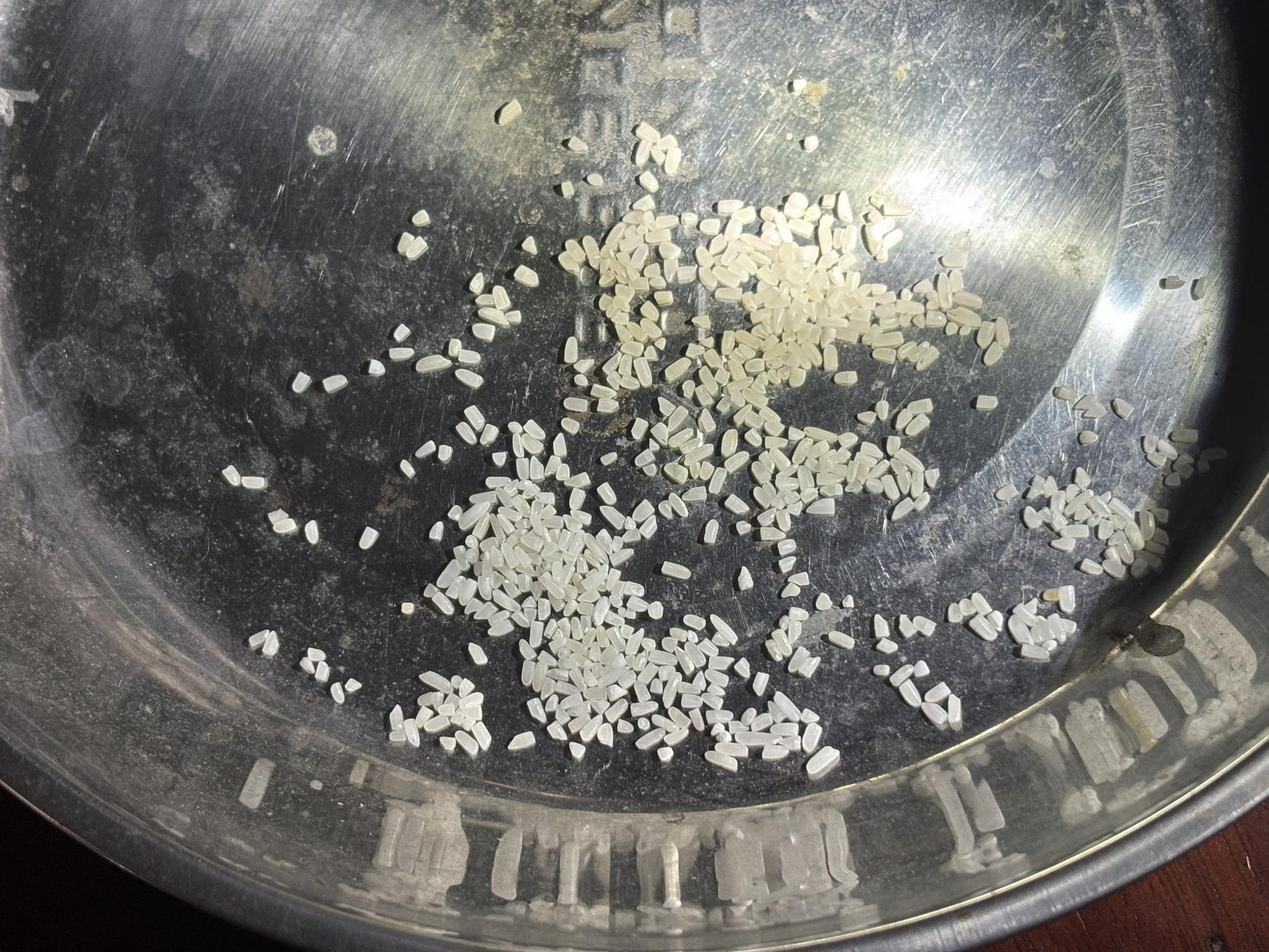Rice-th-y-nh: (457, 498, 492, 531), (804, 745, 840, 775), (709, 613, 739, 645), (582, 532, 610, 566), (419, 669, 453, 696), (774, 691, 802, 723), (477, 304, 511, 330), (1008, 614, 1035, 646), (894, 447, 926, 474), (833, 191, 858, 225), (968, 615, 998, 642), (435, 558, 461, 589), (635, 726, 666, 752), (1064, 488, 1095, 514), (598, 503, 626, 531), (704, 749, 738, 772), (491, 587, 521, 613), (579, 713, 604, 744), (973, 319, 998, 350), (513, 545, 537, 577), (740, 231, 773, 254), (664, 356, 692, 383), (454, 729, 480, 758), (539, 571, 565, 600), (1135, 509, 1158, 541), (581, 235, 602, 270), (712, 264, 741, 289), (604, 221, 628, 251), (790, 436, 814, 466), (697, 366, 720, 397), (772, 211, 794, 243), (723, 449, 750, 475), (787, 214, 815, 239), (920, 701, 949, 725), (787, 645, 811, 674), (463, 403, 487, 432), (471, 721, 494, 751), (838, 224, 861, 254), (1122, 520, 1145, 550), (529, 661, 551, 692), (992, 316, 1014, 347), (604, 698, 630, 724), (904, 412, 931, 437), (741, 387, 769, 411), (684, 641, 708, 669), (665, 405, 689, 433), (899, 679, 923, 707), (878, 473, 901, 502), (624, 626, 646, 656), (707, 466, 729, 496), (454, 368, 484, 390), (890, 496, 916, 521), (529, 519, 554, 545), (1108, 497, 1135, 521), (715, 740, 749, 759), (667, 491, 690, 519), (457, 578, 480, 606), (490, 284, 513, 312), (605, 625, 627, 654), (633, 138, 655, 167), (561, 335, 583, 364), (525, 619, 547, 648), (651, 713, 681, 734), (1047, 613, 1068, 643), (648, 647, 678, 668), (667, 705, 692, 730), (631, 498, 655, 524), (635, 121, 661, 145), (525, 697, 548, 724), (663, 461, 690, 484), (924, 681, 951, 704), (771, 628, 793, 656), (673, 647, 695, 675), (461, 704, 483, 732), (499, 542, 520, 571), (454, 421, 478, 446), (889, 663, 914, 687), (557, 251, 582, 275), (735, 251, 759, 276), (520, 432, 545, 456), (894, 297, 924, 317), (668, 426, 694, 449), (833, 323, 859, 346), (682, 483, 709, 505), (816, 313, 849, 331), (471, 512, 492, 540), (526, 455, 547, 483), (1020, 642, 1049, 662), (431, 591, 455, 615), (1013, 603, 1037, 627), (769, 446, 792, 471), (800, 341, 823, 366), (815, 249, 840, 272), (983, 341, 1005, 367), (696, 408, 718, 434), (609, 546, 635, 568), (1060, 521, 1090, 540), (629, 243, 650, 270), (758, 524, 786, 544), (417, 690, 445, 710), (640, 317, 663, 341), (970, 592, 993, 616), (798, 656, 822, 679), (523, 418, 546, 442), (912, 615, 937, 637), (564, 238, 586, 263), (708, 231, 730, 256), (511, 493, 532, 519), (678, 435, 704, 456), (871, 345, 897, 366), (639, 514, 660, 540), (727, 374, 755, 393), (405, 236, 428, 259), (626, 320, 649, 343), (1087, 496, 1111, 518), (750, 461, 772, 485), (445, 575, 467, 599), (867, 459, 891, 481), (620, 338, 645, 359), (473, 600, 498, 621), (520, 532, 545, 553), (568, 668, 589, 693), (752, 485, 773, 510), (859, 440, 884, 461), (602, 351, 623, 376), (704, 668, 729, 689), (770, 720, 799, 738), (403, 718, 421, 747), (1036, 616, 1056, 642), (894, 469, 914, 495), (663, 727, 689, 747), (751, 671, 771, 697), (631, 193, 657, 213), (596, 722, 616, 748), (609, 258, 629, 284), (590, 382, 617, 401), (475, 574, 494, 601), (487, 619, 514, 638), (908, 470, 927, 497), (637, 662, 659, 685), (1157, 438, 1179, 461), (467, 642, 489, 665), (568, 712, 591, 734), (694, 246, 716, 269), (632, 679, 653, 703), (1102, 558, 1126, 579), (750, 712, 774, 733), (479, 422, 500, 446), (626, 593, 650, 614), (764, 638, 784, 663), (872, 614, 892, 639), (1073, 392, 1098, 412), (630, 416, 650, 441), (603, 567, 622, 593), (497, 505, 523, 524), (424, 714, 450, 733), (718, 330, 737, 356), (764, 293, 791, 311), (737, 566, 755, 593), (702, 348, 724, 370), (655, 396, 677, 418), (701, 691, 724, 712), (639, 299, 660, 322), (546, 720, 569, 741), (613, 322, 634, 345), (650, 421, 671, 444), (756, 266, 779, 287), (693, 384, 714, 407), (756, 506, 779, 527), (787, 366, 808, 389), (494, 486, 515, 509), (757, 451, 778, 474), (655, 132, 678, 153), (517, 638, 537, 662), (898, 614, 918, 638), (771, 307, 788, 335), (819, 481, 844, 500), (995, 483, 1020, 502), (538, 676, 557, 701), (551, 433, 570, 458), (797, 320, 816, 345), (726, 359, 747, 381), (415, 439, 437, 460), (727, 262, 749, 283), (496, 513, 516, 536), (698, 267, 718, 290), (733, 403, 753, 426), (1073, 467, 1092, 491), (1083, 402, 1107, 421), (774, 508, 793, 532), (655, 212, 679, 231), (758, 405, 782, 424), (513, 457, 532, 481), (688, 707, 706, 732), (535, 597, 553, 622), (682, 613, 707, 631), (743, 426, 764, 447), (617, 669, 638, 690), (697, 638, 719, 658), (614, 283, 636, 303), (894, 408, 914, 430), (588, 697, 611, 716), (733, 657, 752, 680), (603, 609, 626, 628), (1052, 535, 1076, 553), (559, 692, 584, 709), (827, 267, 847, 288), (727, 387, 747, 408), (744, 411, 765, 431), (222, 465, 242, 486), (571, 507, 593, 526), (573, 357, 595, 376), (698, 460, 717, 482), (923, 467, 942, 489), (854, 451, 876, 470), (763, 419, 786, 437), (631, 650, 649, 673), (776, 462, 799, 480), (542, 513, 565, 531), (1080, 558, 1104, 575), (786, 498, 806, 518), (804, 203, 823, 224), (479, 535, 500, 554), (537, 650, 558, 669), (501, 580, 522, 599), (836, 252, 857, 271), (415, 706, 434, 727), (619, 374, 641, 392), (621, 527, 643, 545), (605, 369, 623, 391), (837, 431, 859, 449), (556, 528, 573, 551), (547, 666, 570, 683), (554, 703, 571, 726), (641, 210, 658, 233), (557, 616, 573, 640), (778, 555, 797, 575), (583, 549, 602, 569), (897, 340, 917, 359), (597, 269, 617, 288), (780, 581, 801, 599), (1146, 450, 1167, 468), (685, 342, 706, 360), (802, 300, 820, 321), (845, 271, 862, 293), (876, 637, 898, 654), (653, 289, 675, 306), (581, 626, 598, 648), (1078, 429, 1100, 446), (568, 741, 587, 760), (511, 609, 530, 628), (738, 342, 757, 361), (959, 598, 978, 617), (804, 456, 823, 475), (649, 145, 667, 165), (249, 629, 269, 647), (864, 477, 884, 495), (713, 367, 731, 387), (657, 664, 677, 682), (669, 625, 689, 643), (554, 463, 572, 483), (490, 450, 510, 468), (522, 482, 542, 500), (691, 670, 708, 691), (574, 553, 590, 575), (691, 314, 713, 330), (787, 606, 809, 622), (878, 315, 900, 331), (856, 410, 878, 426), (788, 571, 810, 587), (399, 459, 416, 479), (707, 682, 727, 699), (786, 425, 806, 442), (562, 599, 579, 619), (535, 490, 556, 506), (745, 357, 766, 373), (330, 682, 345, 704), (819, 192, 837, 210), (1073, 505, 1092, 522), (643, 344, 660, 363), (436, 702, 456, 718), (560, 180, 576, 200), (681, 379, 697, 399), (727, 719, 747, 735), (800, 708, 820, 724), (648, 677, 665, 695), (640, 636, 657, 654), (539, 503, 557, 520), (447, 504, 464, 522), (606, 593, 625, 609), (844, 479, 863, 495), (611, 311, 630, 327), (439, 735, 457, 751), (300, 657, 316, 674), (344, 678, 362, 693), (767, 369, 782, 386), (698, 335, 716, 349)
